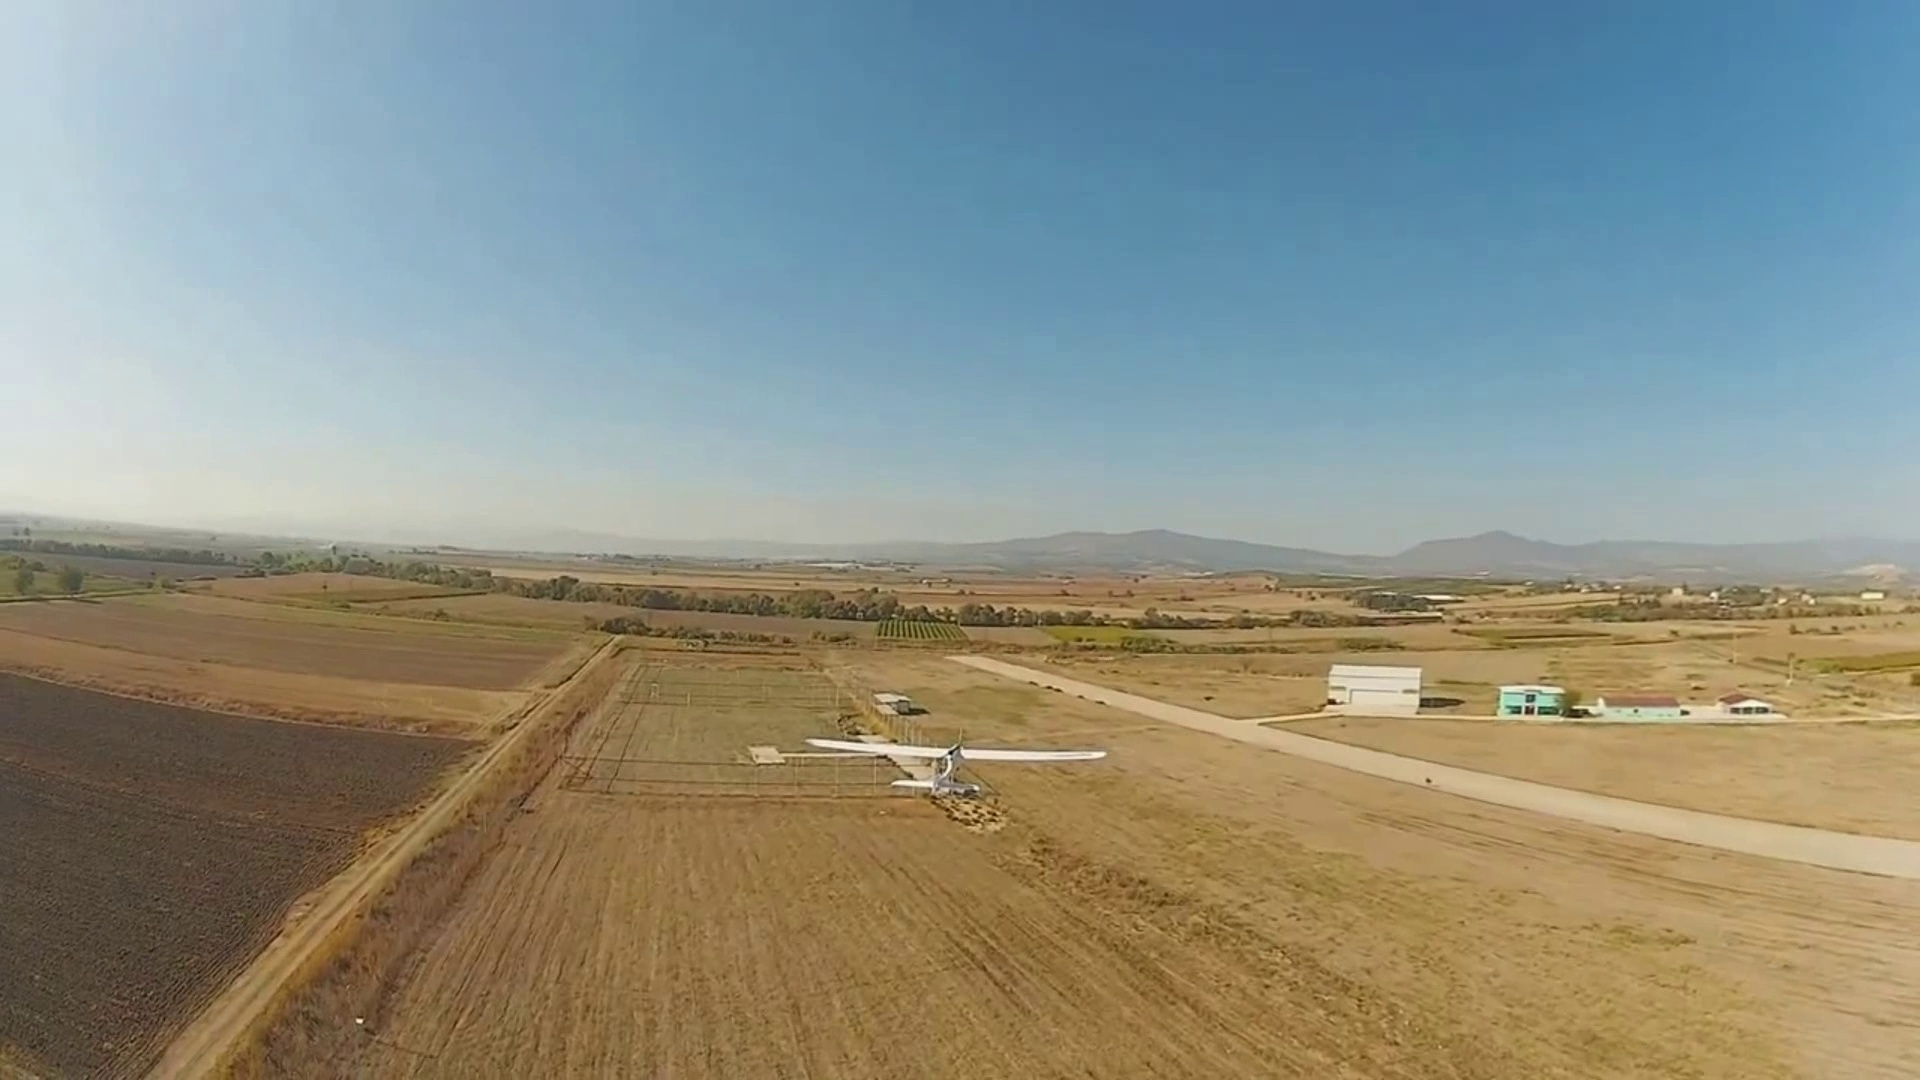airplane: (802, 696, 1112, 812)
